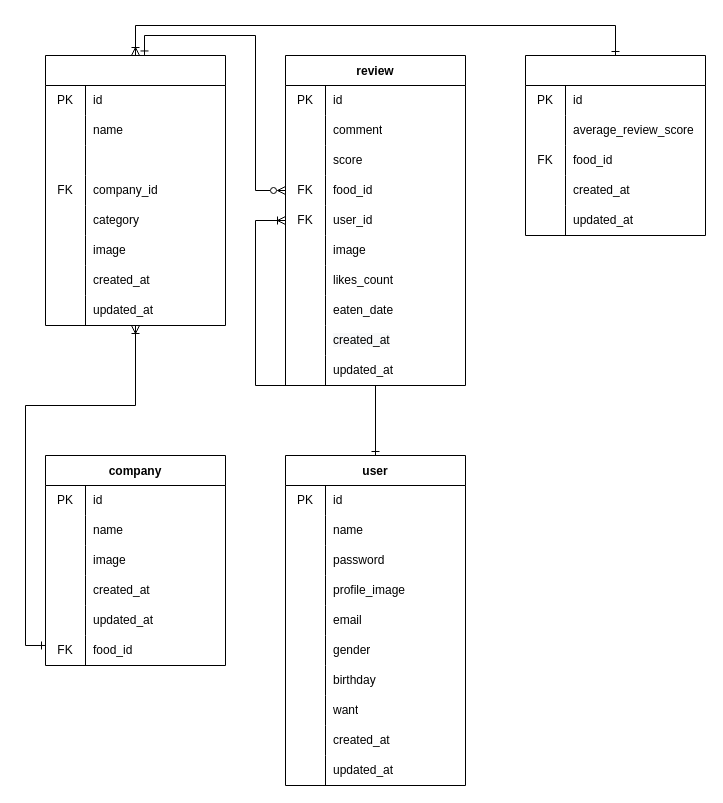
Some shapes in this 723 by 803 pixel diagram are drawn without their labels. The box of each missing label's shape, as (x1, y1, x2, y2) in pixels:
food: (44, 54, 226, 326)
food_review_info: (524, 54, 706, 236)
